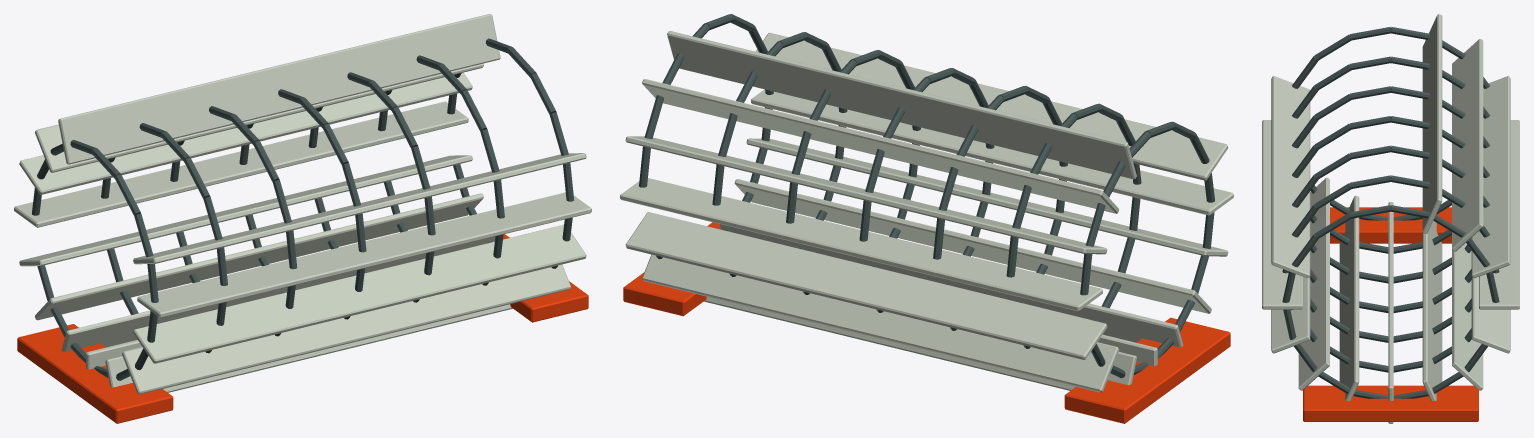
Rendered from SM_MP_Dismantled_Habitat.fbx.
The picture shows the model from 3 angles, left to right: view 1: azimuth 30°, elevation 25°; view 2: azimuth 150°, elevation 25°; view 3: azimuth 270°, elevation 25°; orthographic projection. The views are drawn at different scales.
Parts seen in each view (by area): view 1: SM_MP_Dismantled_Habitat; view 2: SM_MP_Dismantled_Habitat; view 3: SM_MP_Dismantled_Habitat.
Part boxes in pixels (x1,y1,x2,y2): SM_MP_Dismantled_Habitat: (14,14,591,423); SM_MP_Dismantled_Habitat: (620,14,1233,423); SM_MP_Dismantled_Habitat: (1262,14,1519,423).
Size of the model in its own units: 820 by 440 by 424.
1 material, 1 textured.
